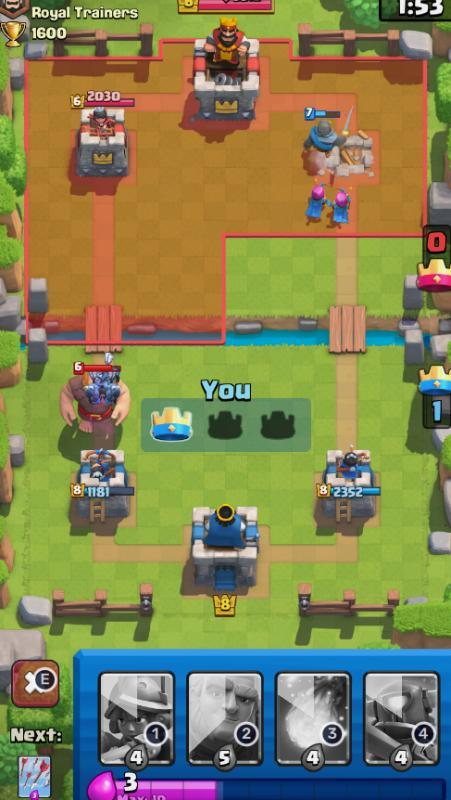enemy_giant: (58, 359, 133, 439)
player_archers: (301, 181, 332, 231), (330, 184, 356, 231)
player_knight: (298, 103, 341, 167)
player_minions: (87, 359, 121, 386), (88, 376, 112, 397), (102, 385, 120, 406)
